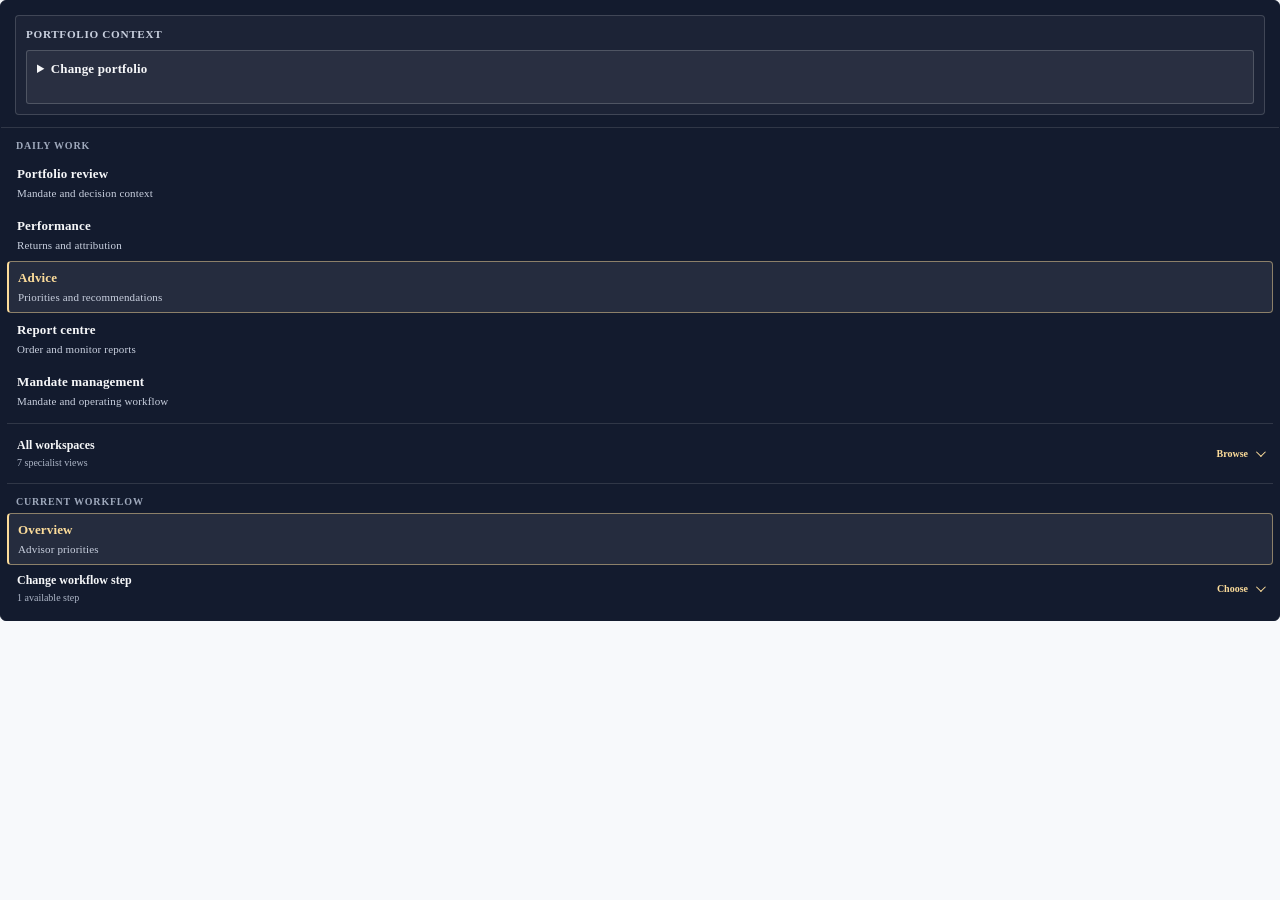
Test case: PortfolioScreenRail › counts only actionable workflow steps while retaining unavailable discovery
What coordinates should you click on to do the following:
click the button "Change workflow step 1 available step Choose"
I would click on:
 (74, 580)
Its box is [7, 565, 1273, 612].
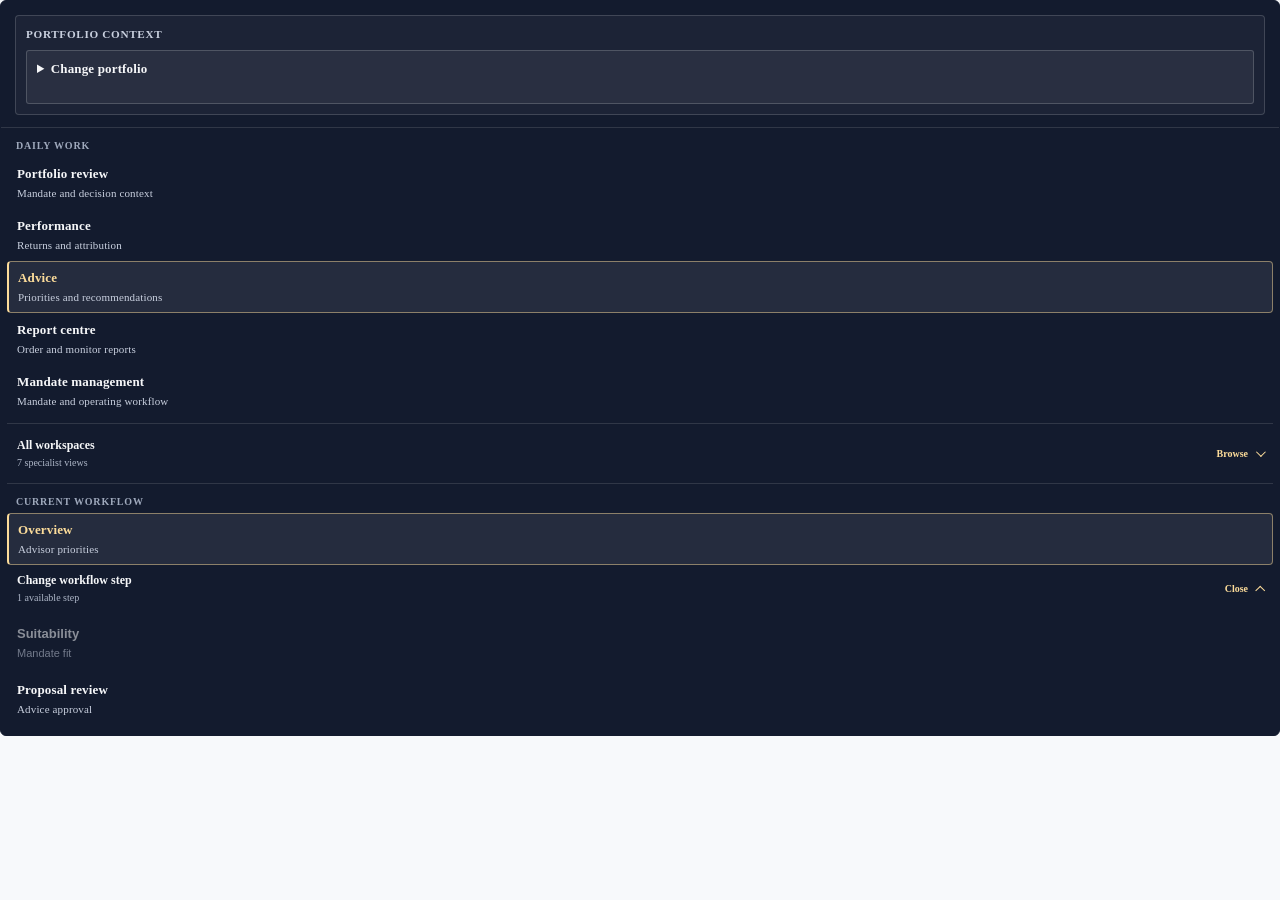
Expected: the link "Proposal review Advice approval" is shown, [17, 682, 108, 715]
Expected: the button "Suitability Mandate fit" is disabled, [7, 617, 1273, 669]
